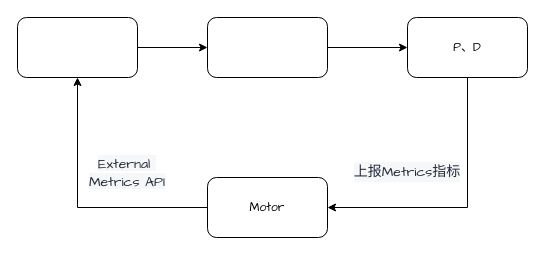
The diagram is 545 pixels wide and 255 high, and some of its shapes have lost their labels. The shapes that lost their labels are listed below. From the top down, each one's centre as x and y in pixels, then its label:
At point 77,47: "HPA ( autoscale )".
At point 267,47: "Infer Operator".
